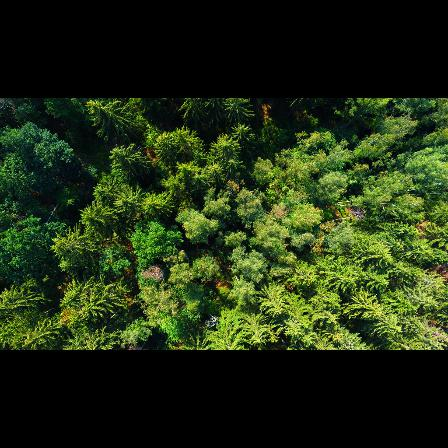Dead: (136, 264, 168, 284), (203, 312, 221, 329)
